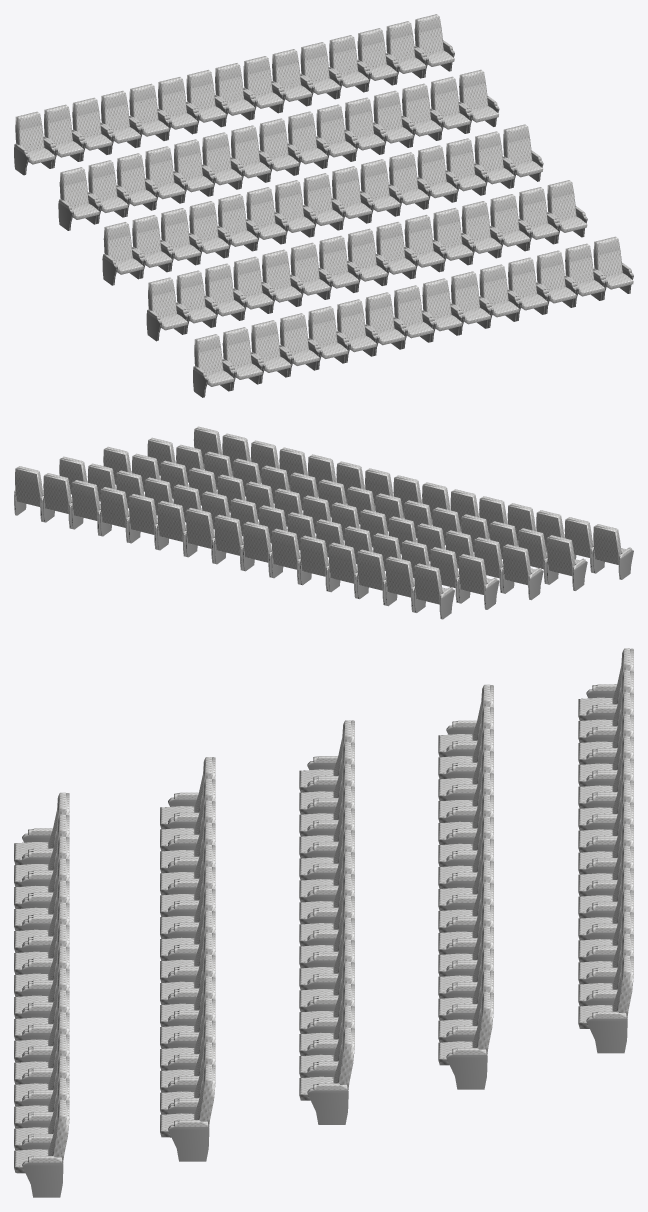
File: Chairs.fbx
The picture shows the model from 3 angles, top to bottom: view 1: azimuth 30°, elevation 25°; view 2: azimuth 150°, elevation 25°; view 3: azimuth 270°, elevation 25°; orthographic projection. The views are drawn at different scales.
Visible parts, largest first — view 1: CinemaChair03; view 2: CinemaChair03; view 3: CinemaChair03.
Part boxes in pixels (x1,y1,x2,y2): CinemaChair03: [14, 14, 633, 397]; CinemaChair03: [14, 426, 633, 619]; CinemaChair03: [14, 648, 633, 1197].
Size of the model in its own units: 1340 by 424 by 1066.
